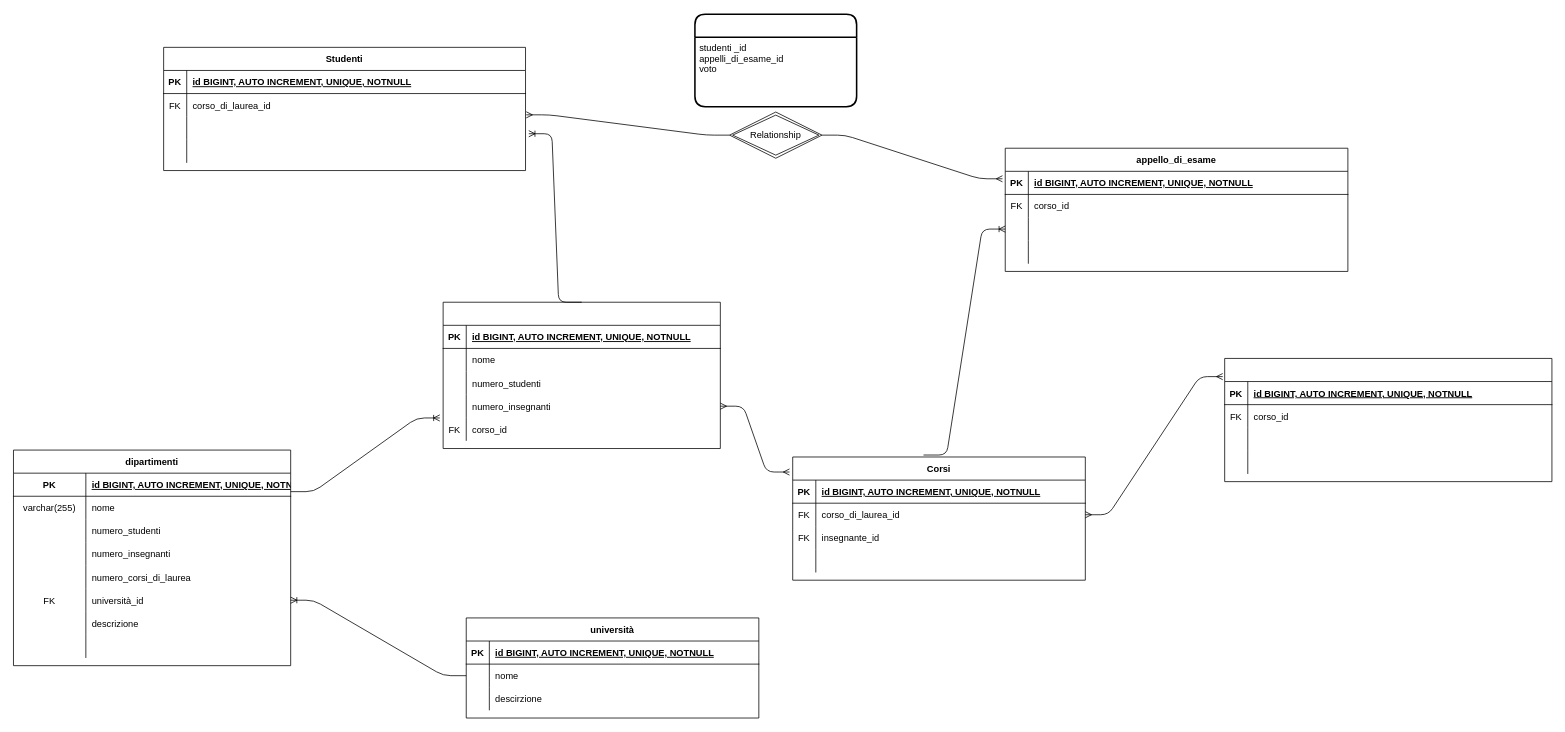
Some shapes in this 1565 by 732 pixel diagram are drawn without their labels. The shapes that lost their labels are listed below. From the top down, each one's box as (x1, y1, x2, y2) in pixels, then its label:
(694, 13, 857, 107): appello_di_esame_studente
(442, 301, 720, 449): corsi_di_laurea
(1224, 358, 1552, 482): Insegnanti
